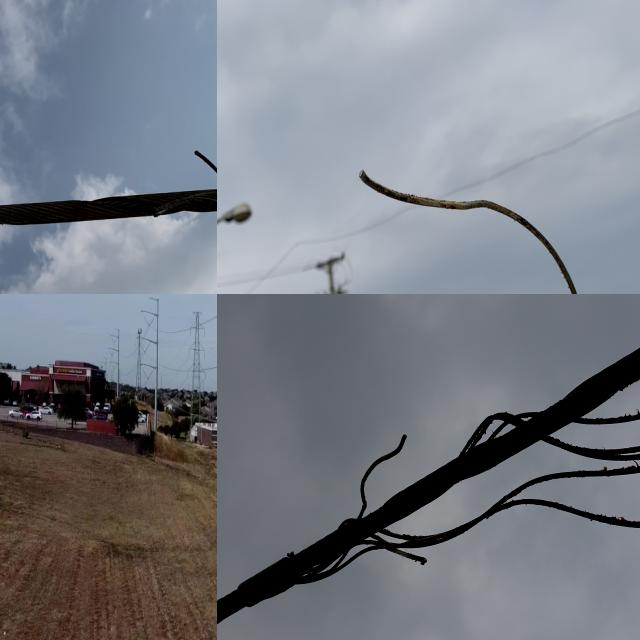杆塔: (182, 302, 211, 441), (132, 321, 150, 398)
电缆破损: (217, 316, 640, 640), (338, 157, 611, 294), (0, 145, 217, 253)
